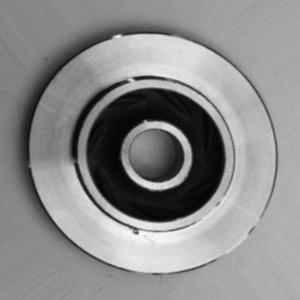defect: (117, 212, 177, 255)
